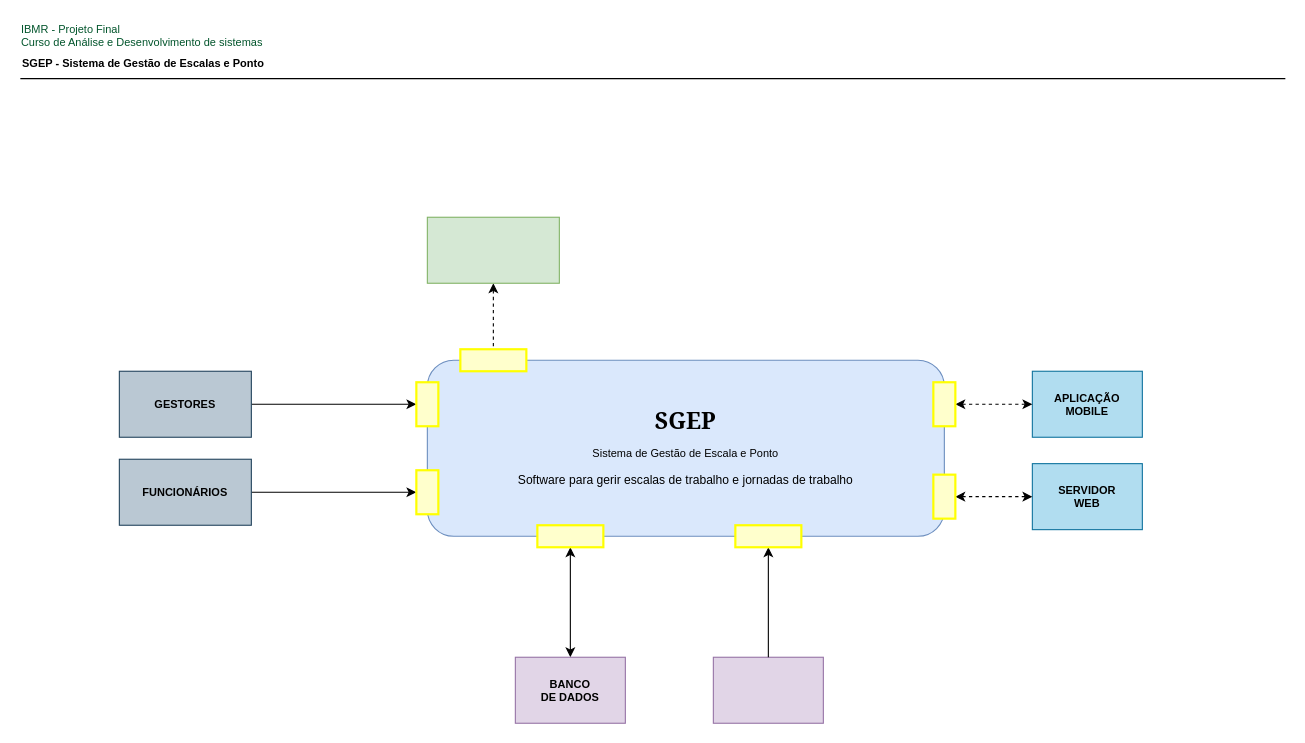
The diagram is 1305 pixels wide and 743 high, and some of its shapes have lost their labels. Here are the shapes that lost their labels. From the top down, the centre of each, then its label:
the point at 492,249: FOLHA DE PAGAMENTO
the point at 767,689: SISTEMA DE AUTENTICAÇÃO DE USUÁRIO
